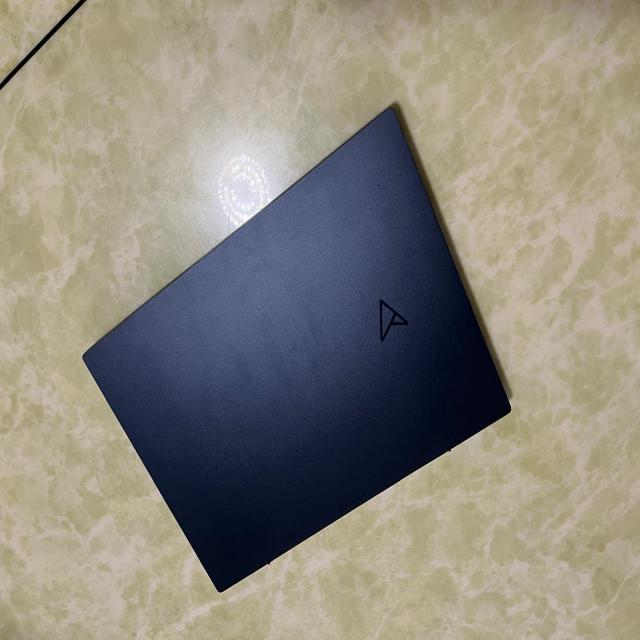laptop: (81, 101, 512, 593)
